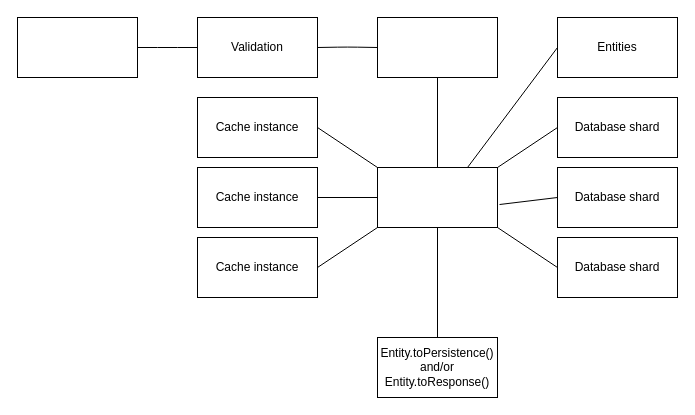
Some shapes in this 695 by 415 pixel diagram are drawn without their labels. The shapes that lost their labels are listed below. From the top down, each one's box as (x1, y1, x2, y2) in pixels, then its label:
(16, 16, 138, 78): API Layer
(376, 16, 498, 78): Controller
(376, 166, 498, 228): Use case
